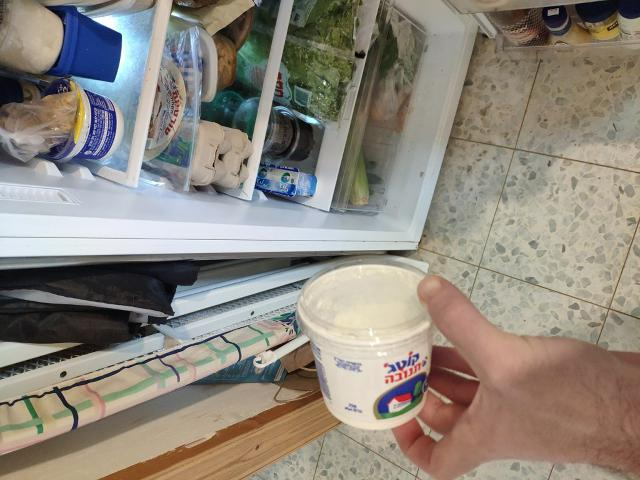cotage: (309, 262, 441, 426)
